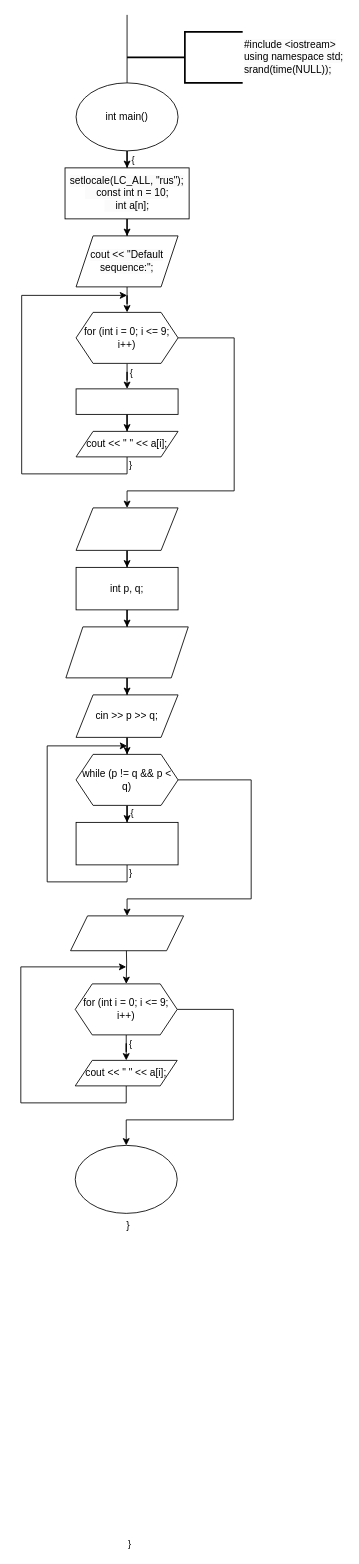
Image size: 359x1564. Some labels were removed from this diagram. The shapes that lost their labels are listed below. From the top down, each one's centre as x and y in pixels, then its label:
point (126, 401): a[i] = rand() % 101;
point (126, 528): cout << endl;
point (126, 652): cout << "Задайте индексы p и q\n";
point (126, 843): swap(a[p], a[q]); p++; q--;
point (127, 933): cout << "Reversed sequence:";
point (125, 1179): return 0;
